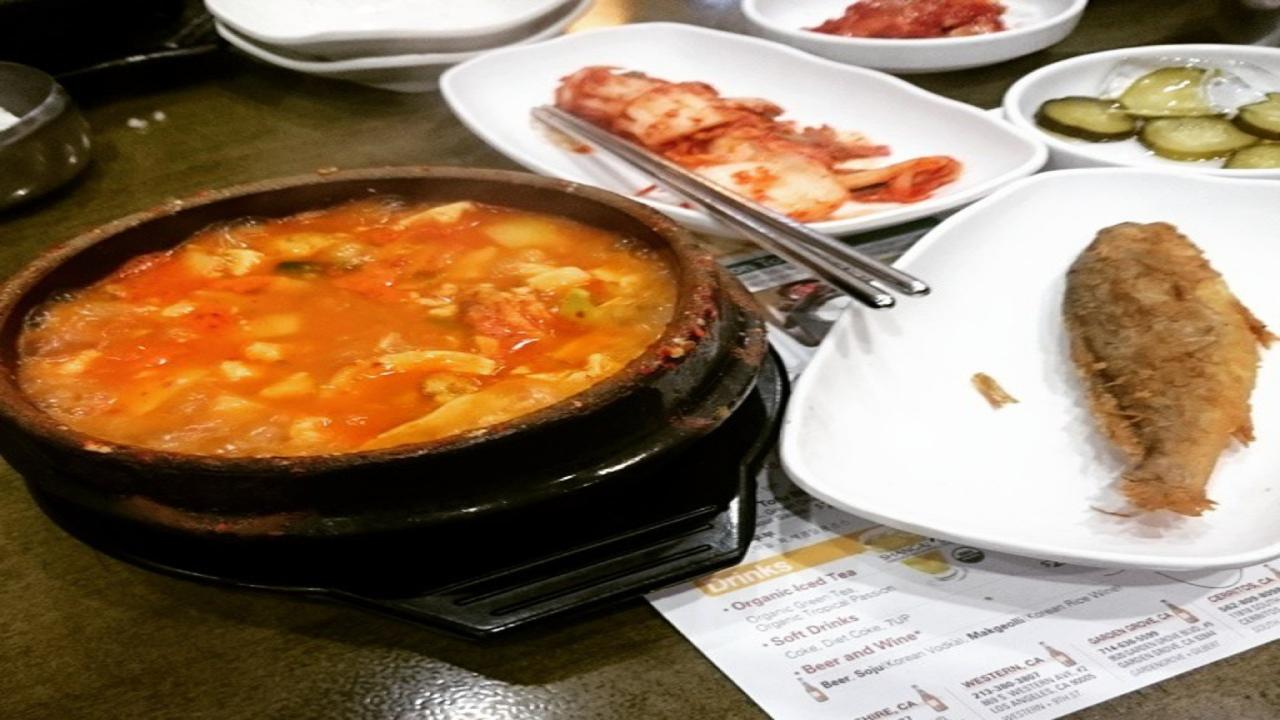chopstick: (541, 105, 929, 308)
